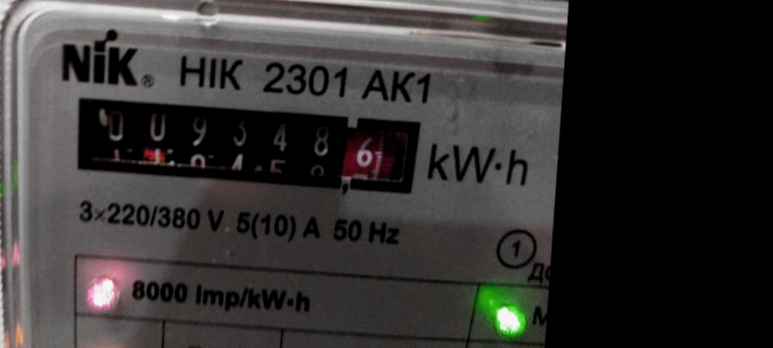0: (145, 107, 169, 145), (104, 107, 127, 143)
3: (227, 114, 251, 148)
4: (267, 117, 290, 155)
6: (353, 133, 377, 168)
8: (310, 122, 332, 157)
9: (188, 111, 209, 147)
screen: (49, 81, 440, 210)
